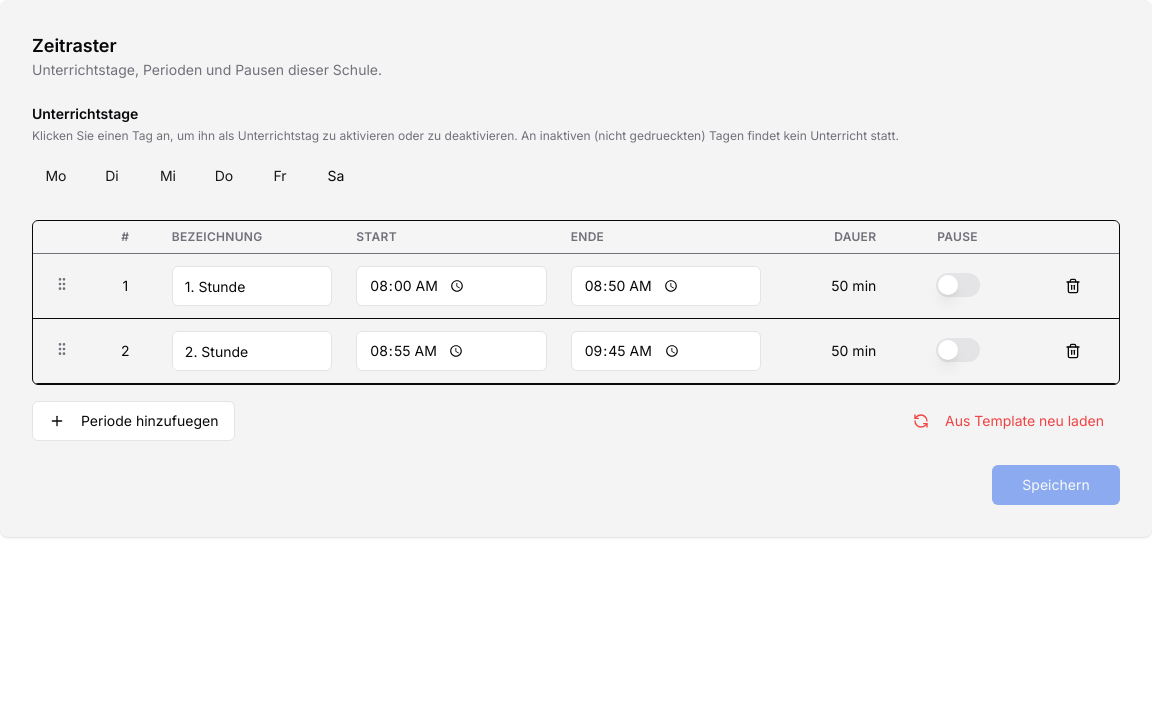
Test: TimeGridTab (Plan 10-04 Task 2) › on 409 TimeGridConflictError, DestructiveEditDialog opens with impactedRunsCount + 3 buttons
// Dirty the grid by toggling Samstag ON
Click the button with aria-label "Unterrichtstag Sa": {"x": 336, "y": 176} [312, 156, 360, 196]
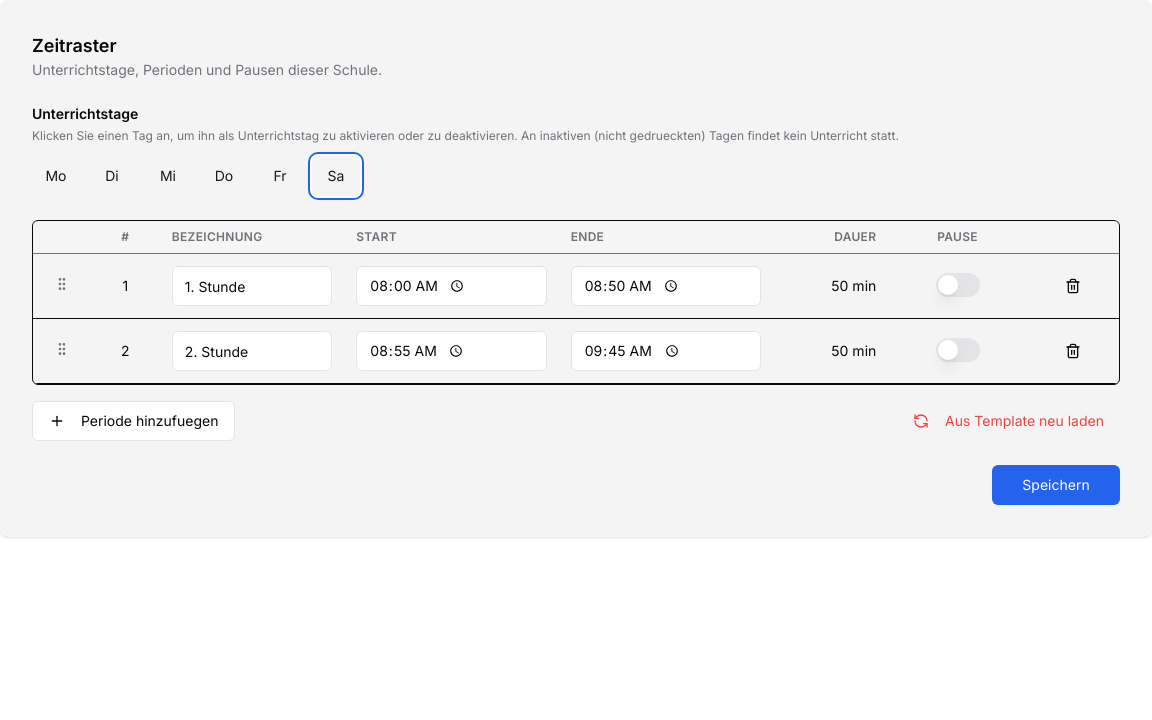
Click the button "Speichern": {"x": 1056, "y": 485} [992, 465, 1120, 505]
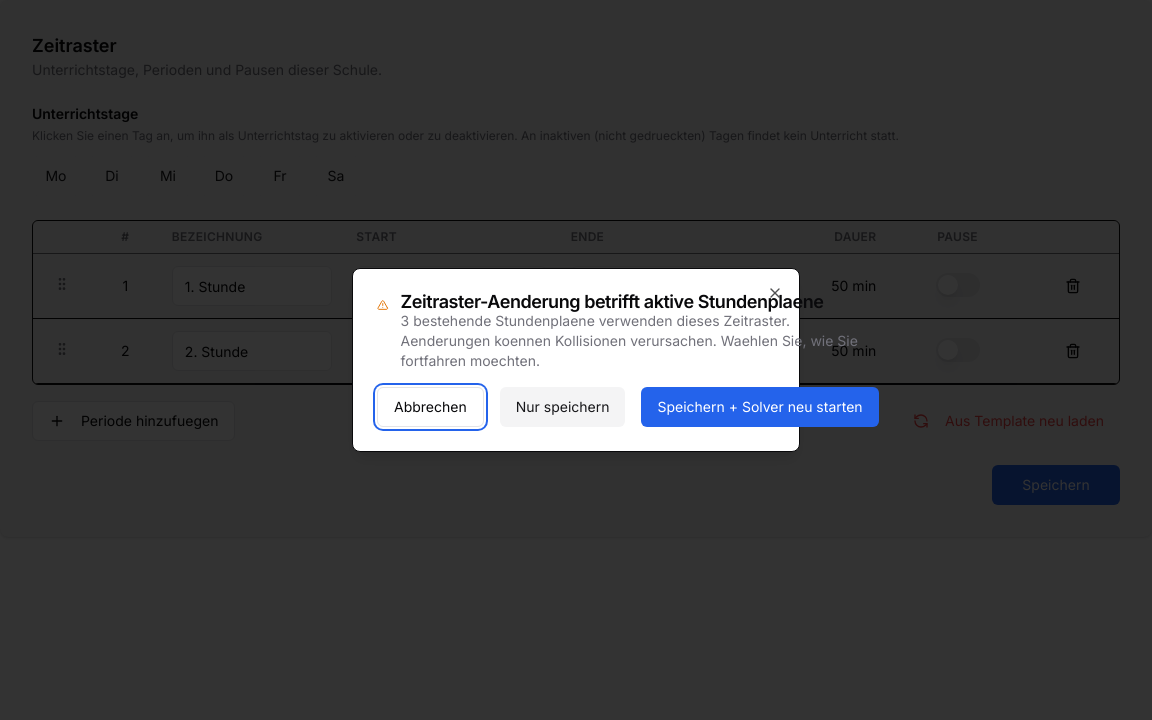
Result: the heading "Zeitraster-Aenderung betrifft aktive Stundenplaene" is shown at [400, 293, 879, 311]
Result: the button "Abbrechen" is shown at [377, 387, 484, 427]
Result: the button "Nur speichern" is shown at [500, 387, 626, 427]
